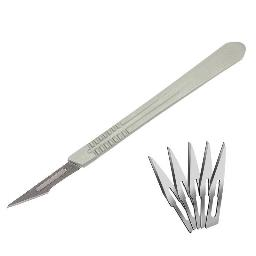scalpel: (7, 40, 247, 208)
